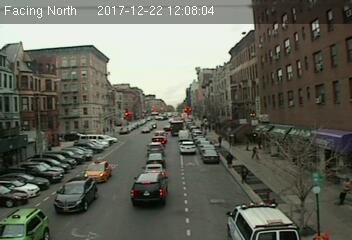car: (55, 176, 98, 212), (131, 172, 168, 206), (82, 160, 112, 182), (141, 163, 167, 175), (179, 140, 196, 155), (146, 151, 165, 164), (202, 150, 219, 164)
pedestrian: (239, 162, 251, 187)
police: (224, 201, 301, 240)
ups: (170, 120, 183, 137)
